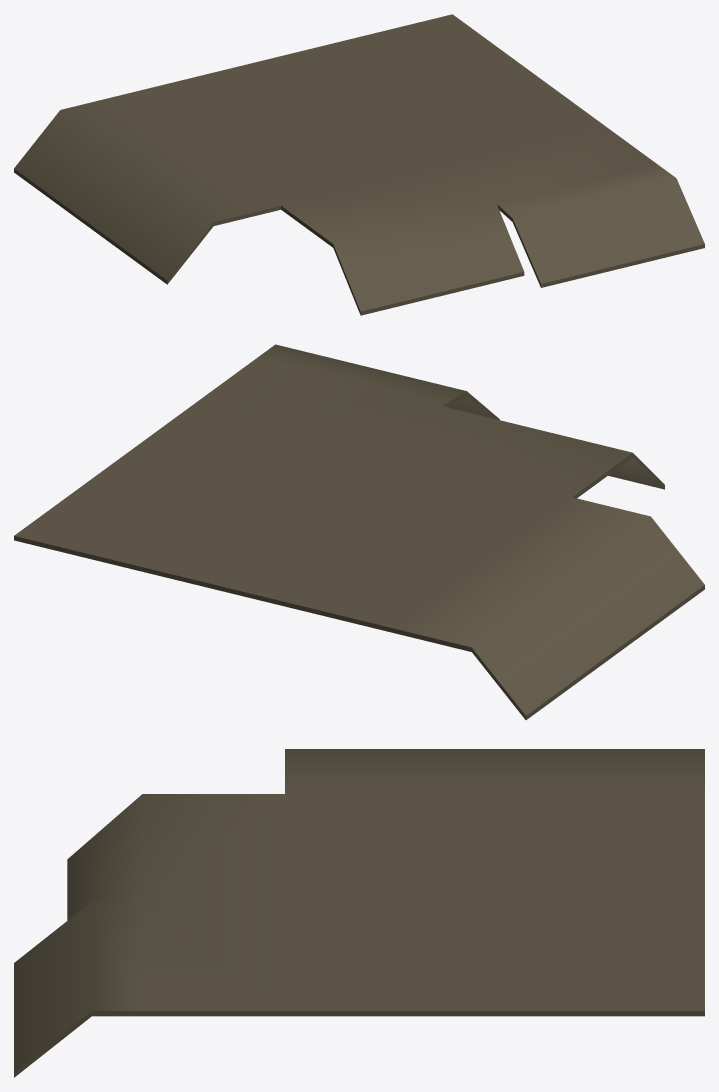
The model's file is flatroof.fbx.
3 renders of one model, top to bottom at view 1: azimuth 30°, elevation 25°; view 2: azimuth 150°, elevation 25°; view 3: azimuth 270°, elevation 25°, orthographic. The views are drawn at different scales.
Visible parts, largest first — view 1: flatRoof; view 2: flatRoof; view 3: flatRoof.
Part boxes in pixels (bbox=[...]): flatRoof: bbox=[14, 14, 704, 315]; flatRoof: bbox=[14, 344, 704, 719]; flatRoof: bbox=[14, 749, 704, 1077].
Size of the model in its own units: 22.39 by 2.52 by 22.33.
